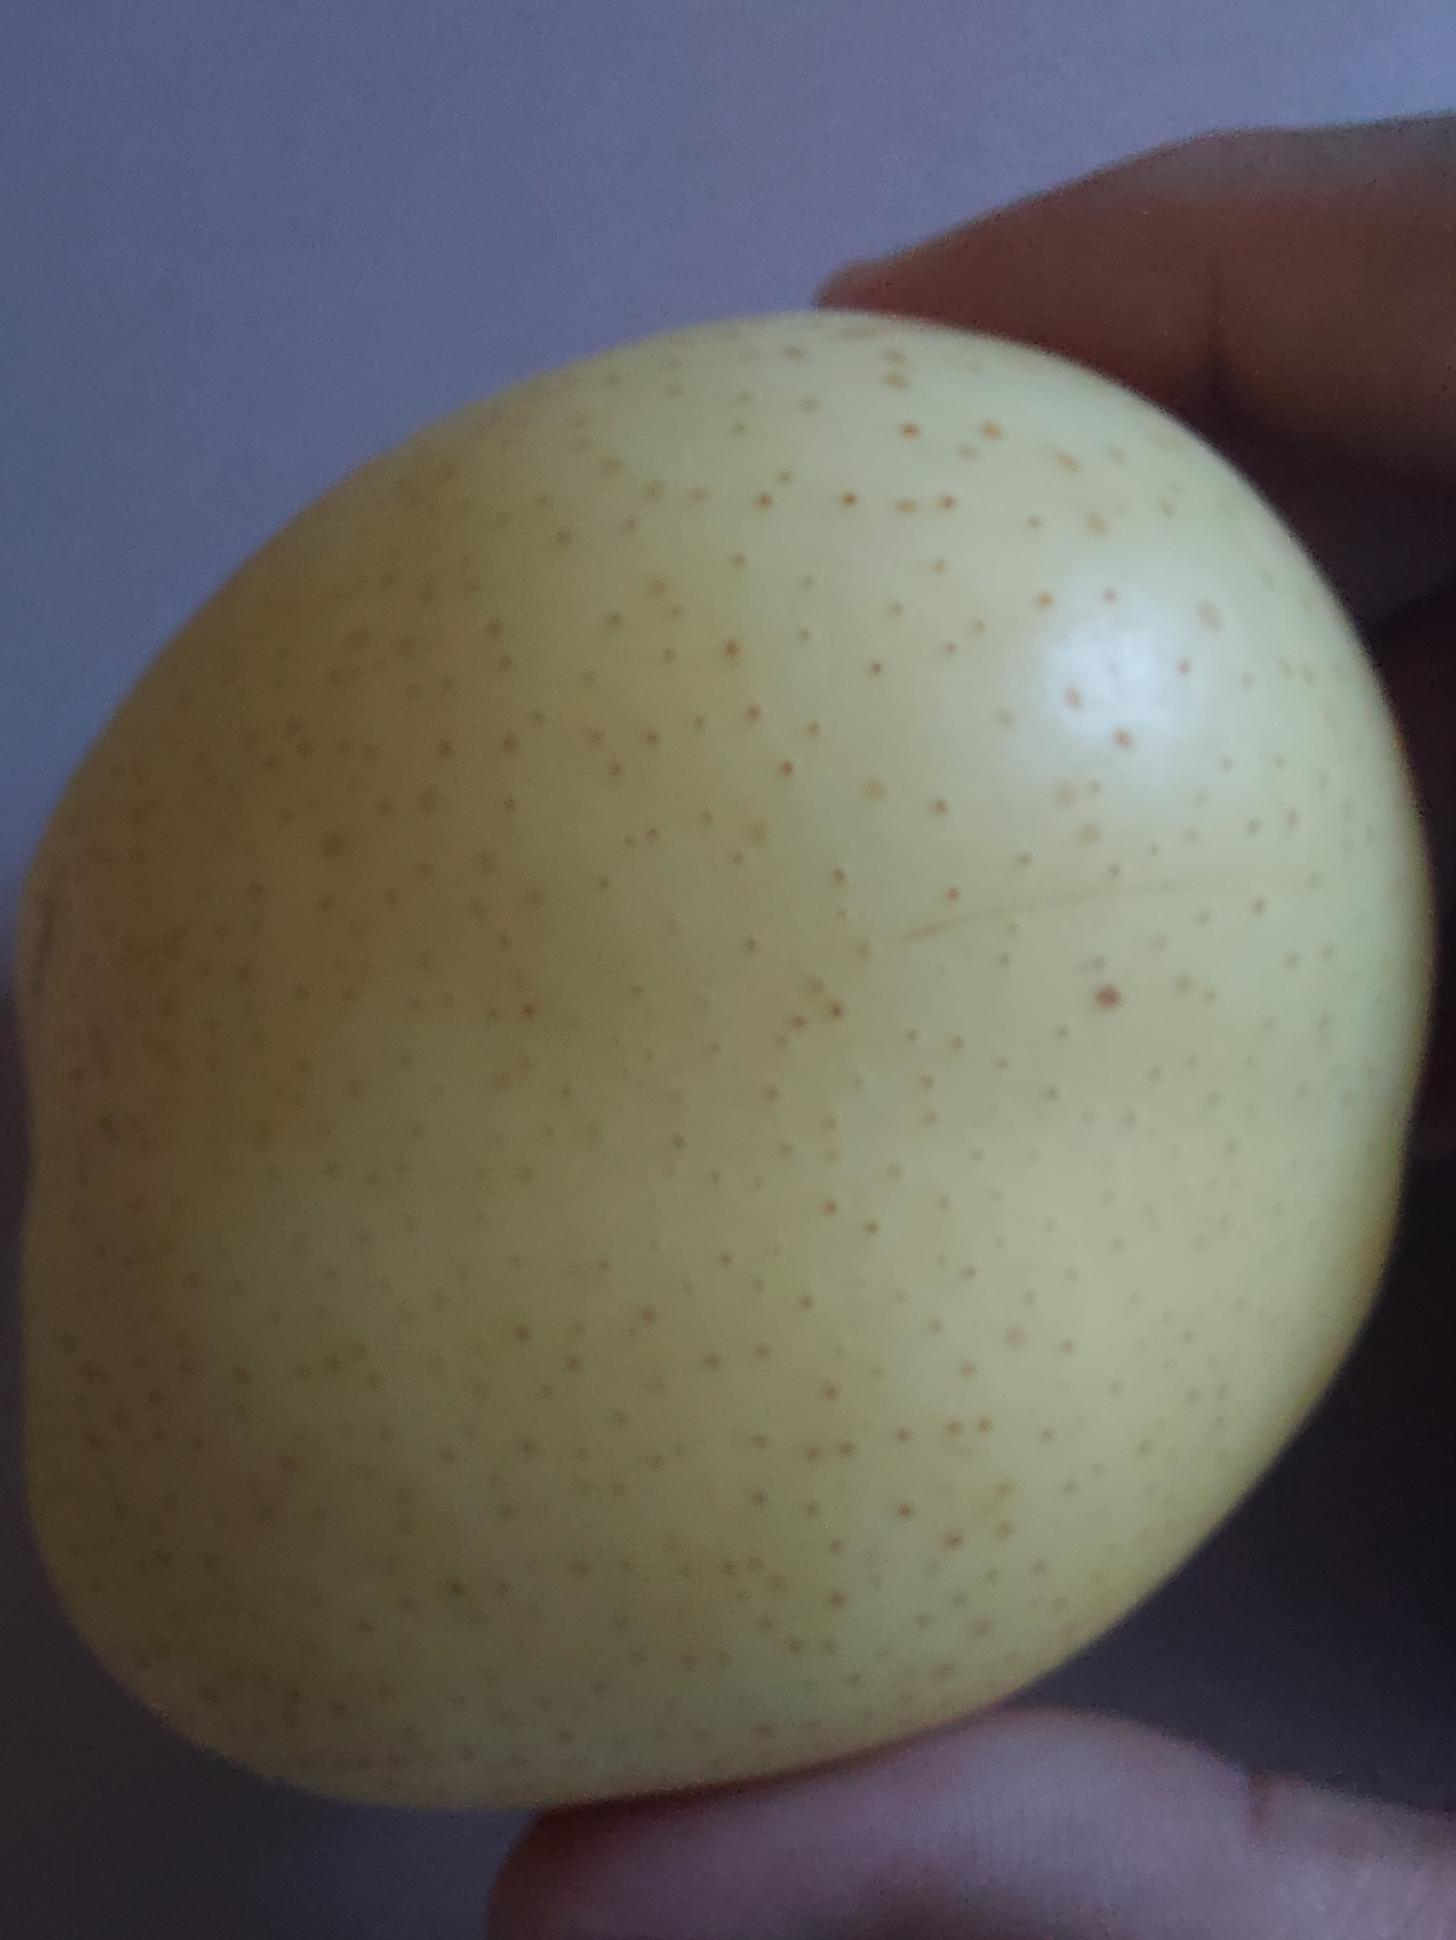Good Pear: (0, 307, 1456, 1830)
